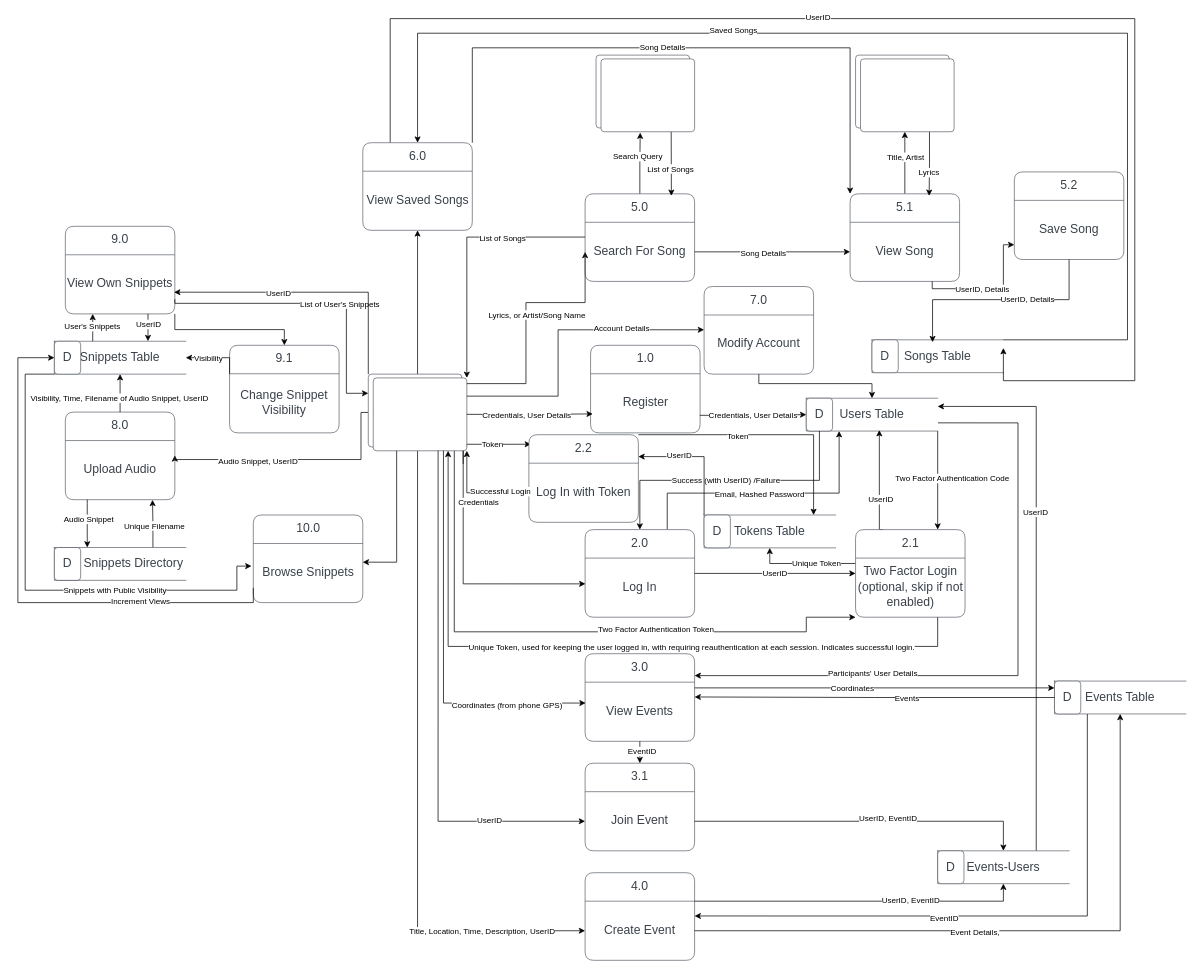
Some shapes in this 1199 by 973 pixel diagram are drawn without their labels. Each missing label, with the box of its shape:
ChartLyrics / PowerLyrics API: (860, 58, 954, 132)
Genius API: (600, 58, 695, 132)
User: (373, 377, 467, 451)
